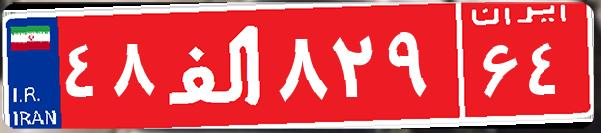2: (330, 28, 385, 110)
4: (57, 26, 110, 107), (525, 38, 570, 115)
6: (475, 38, 525, 113)
8: (273, 28, 330, 110), (110, 28, 158, 105)
9: (385, 28, 445, 110)
الف: (158, 15, 273, 115)
